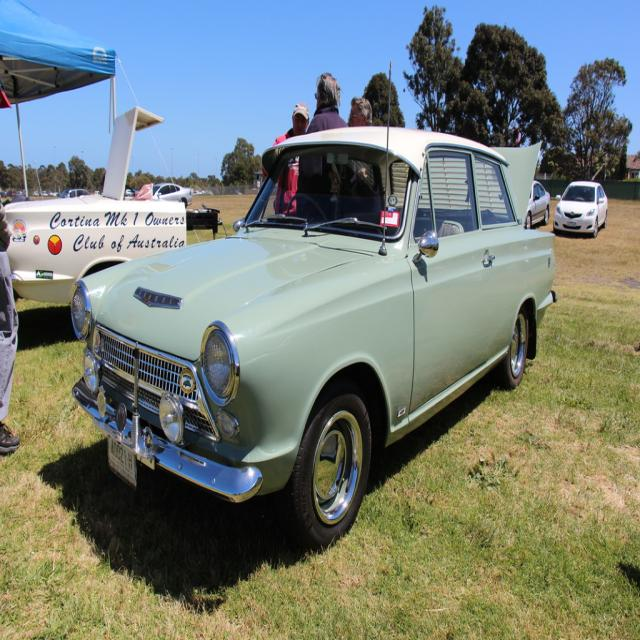car: (66, 59, 559, 550), (550, 178, 606, 239)
